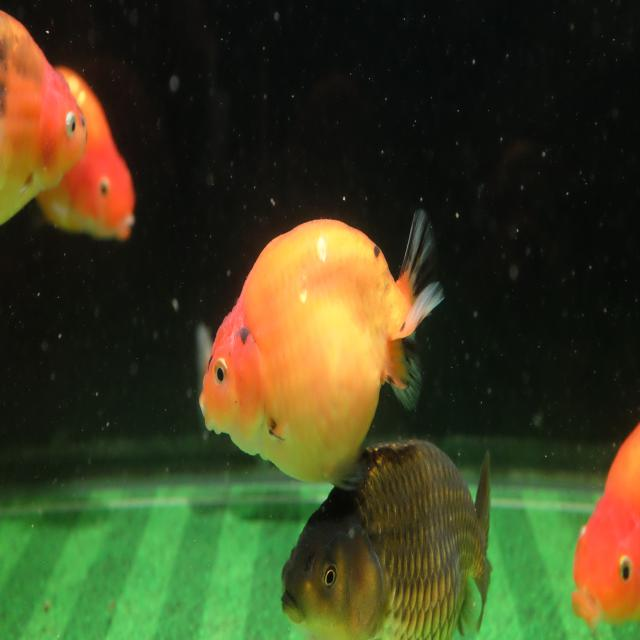Goldfish: (198, 209, 442, 493), (279, 436, 493, 640), (0, 8, 88, 230), (32, 63, 136, 247), (570, 421, 640, 640)
